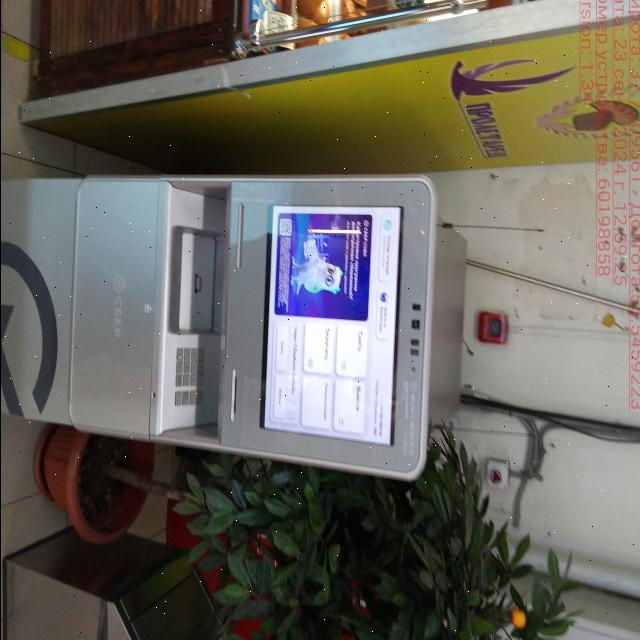bank: (0, 169, 467, 476)
